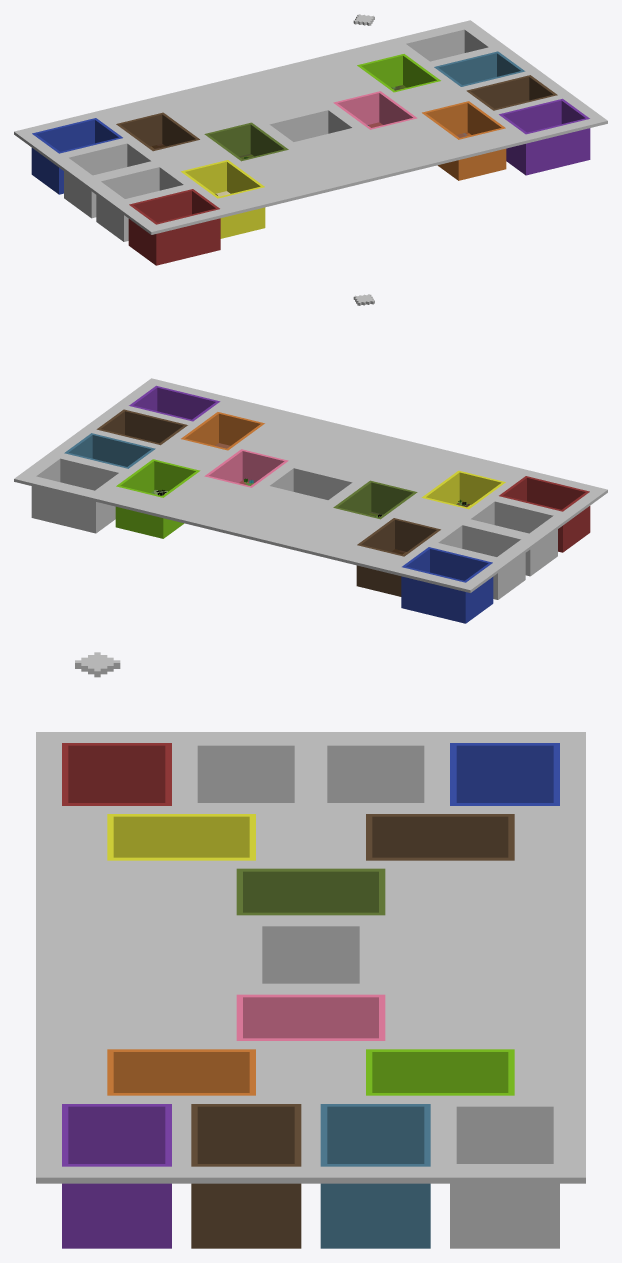
File: minecraft.obj
3 renders of one model, top to bottom at view 1: azimuth 30°, elevation 25°; view 2: azimuth 150°, elevation 25°; view 3: azimuth 270°, elevation 25°, orthographic. The views are drawn at different scales.
Size of the model in its own units: 163 by 64 by 85.
